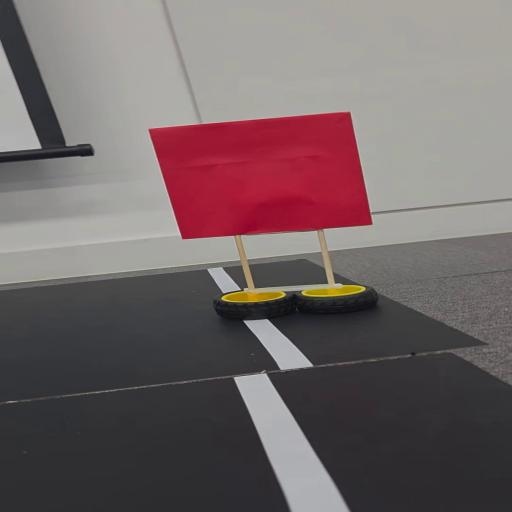Sign_A: (134, 108, 388, 318)
